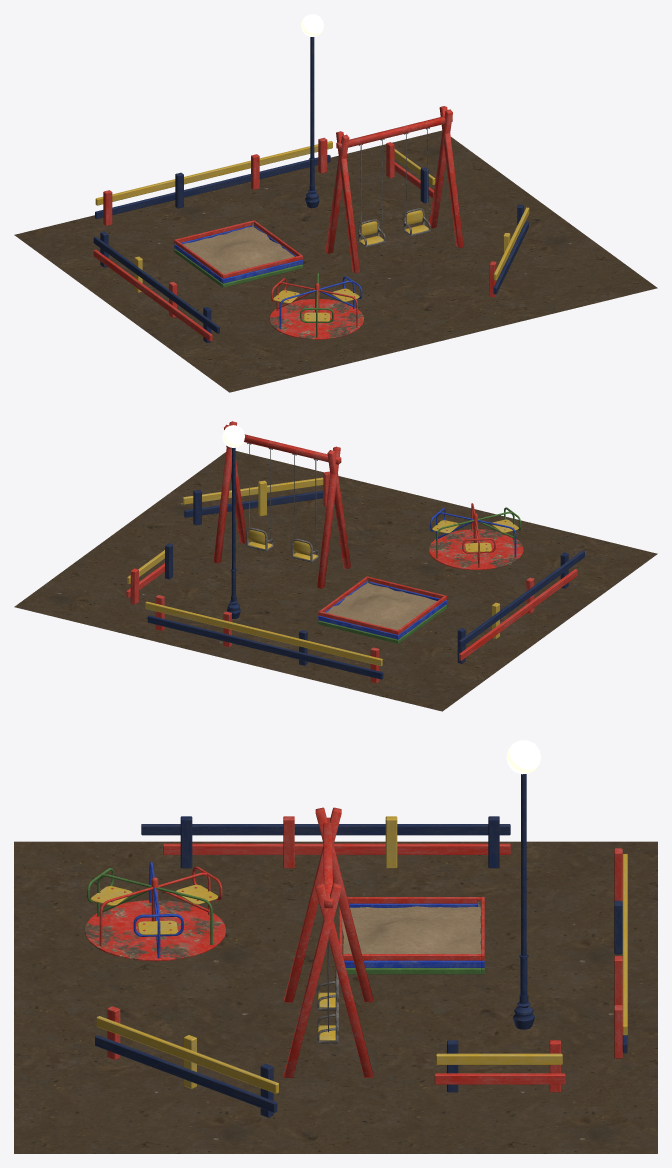
The model's file is Playground.dae.
3 views of the same model, one above another, from view 1: azimuth 30°, elevation 25°; view 2: azimuth 150°, elevation 25°; view 3: azimuth 270°, elevation 25° (orthographic). The views are drawn at different scales.
Parts seen in each view (by area): view 1: child_ground_child_ground_0, child_zabor_child_zabor_0, child_swing_swing_0, child_sand_sand_0, child_sandbox_sandbox_0, child_swing2_swing1_0, child_swing2_swing2_0, child_lamp_metal_0; view 2: child_ground_child_ground_0, child_zabor_child_zabor_0, child_swing_swing_0, child_sand_sand_0, child_sandbox_sandbox_0, child_swing2_swing1_0, child_swing2_swing2_0, child_lamp_metal_0, child_lamp_lamp_em_0; view 3: child_ground_child_ground_0, child_zabor_child_zabor_0, child_swing_swing_0, child_sand_sand_0, child_swing2_swing1_0, child_sandbox_sandbox_0, child_swing2_swing2_0, child_lamp_metal_0, child_lamp_lamp_em_0.
Part boxes in pixels (x1,y1,x2,y2): child_ground_child_ground_0: [14, 130, 657, 392]; child_zabor_child_zabor_0: [93, 137, 529, 342]; child_swing_swing_0: [325, 106, 463, 273]; child_sand_sand_0: [183, 226, 294, 273]; child_sandbox_sandbox_0: [174, 220, 302, 287]; child_swing2_swing1_0: [269, 299, 363, 339]; child_swing2_swing2_0: [271, 273, 362, 337]; child_lamp_metal_0: [305, 37, 319, 208]; child_ground_child_ground_0: [14, 451, 657, 711]; child_zabor_child_zabor_0: [126, 471, 584, 683]; child_swing_swing_0: [213, 421, 350, 588]; child_sand_sand_0: [326, 583, 436, 630]; child_sandbox_sandbox_0: [318, 576, 446, 643]; child_swing2_swing1_0: [429, 529, 523, 569]; child_swing2_swing2_0: [430, 503, 521, 567]; child_lamp_metal_0: [226, 448, 240, 618]; child_lamp_lamp_em_0: [222, 425, 244, 447]; child_ground_child_ground_0: [14, 841, 657, 1153]; child_zabor_child_zabor_0: [95, 816, 627, 1117]; child_swing_swing_0: [284, 807, 373, 1077]; child_sand_sand_0: [342, 906, 481, 954]; child_swing2_swing1_0: [84, 900, 225, 961]; child_sandbox_sandbox_0: [339, 897, 484, 974]; child_swing2_swing2_0: [87, 861, 222, 958]; child_lamp_metal_0: [513, 774, 534, 1029]; child_lamp_lamp_em_0: [506, 740, 540, 774].
Bounding box in the file's own units: 705 × 300 × 615.
9 materials, 8 textured.
